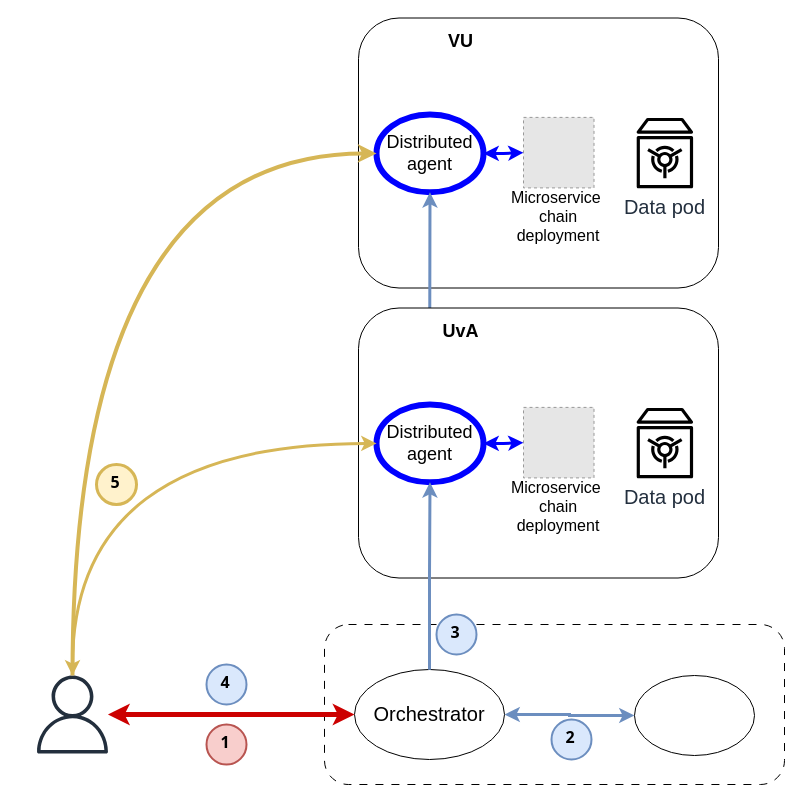
Some shapes in this 802 by 802 pixel diagram are drawn without their labels. Grey dashed boxes stand in for pictures. Here are the shapes that lost their labels. From the top down, the centre of each, then its label:
[72,714]: Data analyst
[694,715]: Policy enforcer
